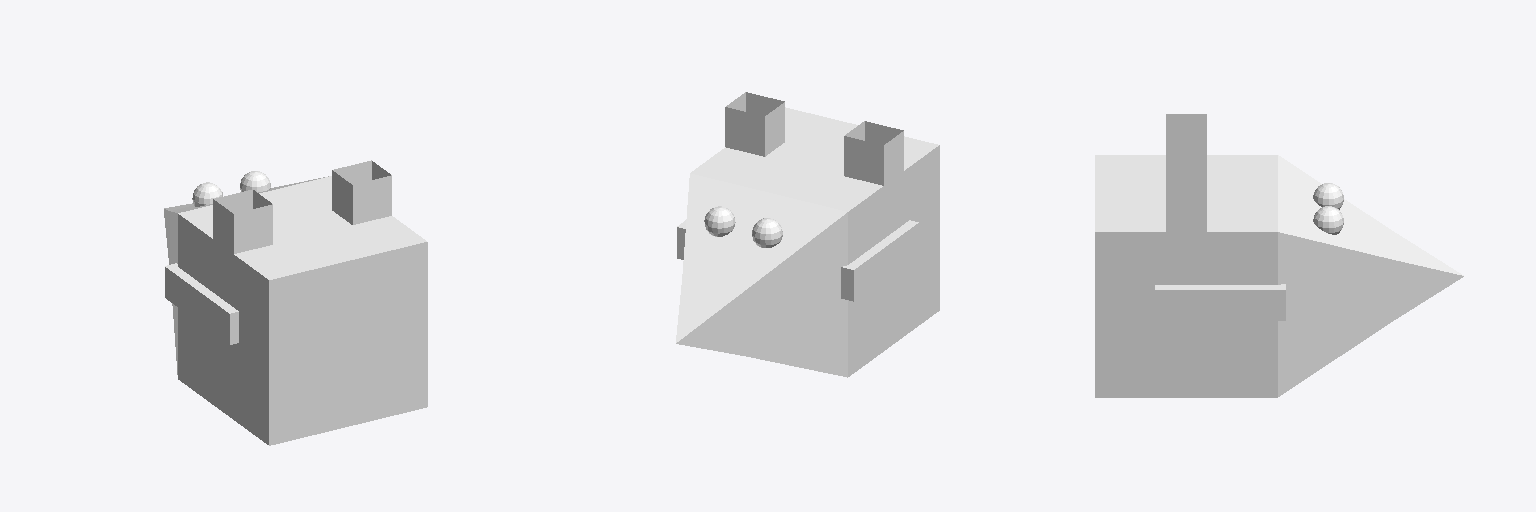
Rendered from generic_chappy.obj.
3 views of the same model, side by side, from view 1: azimuth 30°, elevation 25°; view 2: azimuth 150°, elevation 25°; view 3: azimuth 270°, elevation 25° (orthographic).
Visible parts, largest first — view 1: mainbody_Cube, mainbody.001_Cube.002, eyes_Sphere.001_Sphere.002; view 2: mainbody_Cube, mainbody.001_Cube.002, nose_tip_Cube.001, eyes_Sphere.001_Sphere.002; view 3: mainbody_Cube, mainbody.001_Cube.002, nose_tip_Cube.001, eyes_Sphere.001_Sphere.002.
Boxes of the visible parts, x1=… form: mainbody_Cube: x1=170, y1=176, x2=427, y2=445; mainbody.001_Cube.002: x1=165, y1=160, x2=391, y2=344; eyes_Sphere.001_Sphere.002: x1=192, y1=171, x2=270, y2=206; mainbody_Cube: x1=682, y1=107, x2=939, y2=377; mainbody.001_Cube.002: x1=677, y1=92, x2=918, y2=301; nose_tip_Cube.001: x1=676, y1=280, x2=740, y2=355; eyes_Sphere.001_Sphere.002: x1=704, y1=206, x2=782, y2=247; mainbody_Cube: x1=1095, y1=155, x2=1392, y2=397; mainbody.001_Cube.002: x1=1155, y1=114, x2=1285, y2=320; nose_tip_Cube.001: x1=1393, y1=231, x2=1463, y2=320; eyes_Sphere.001_Sphere.002: x1=1313, y1=183, x2=1343, y2=234.
Size of the model in its own units: 2.24 by 2.49 by 4.04.